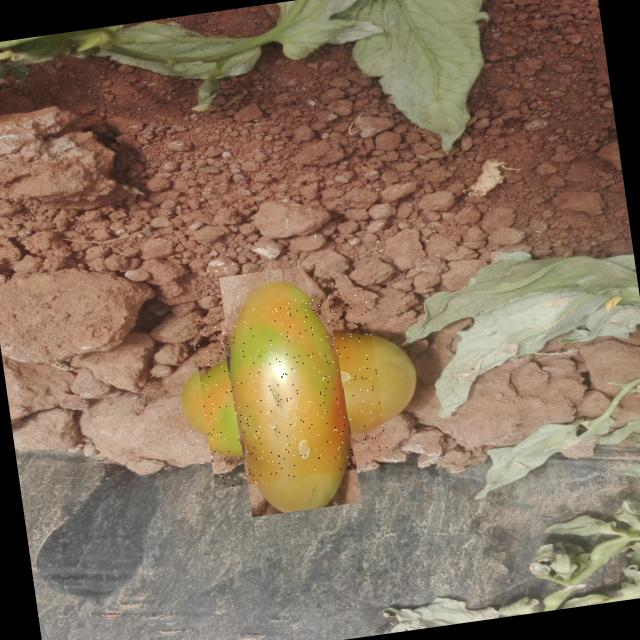Unripe Tomato: (191, 290, 390, 490)
